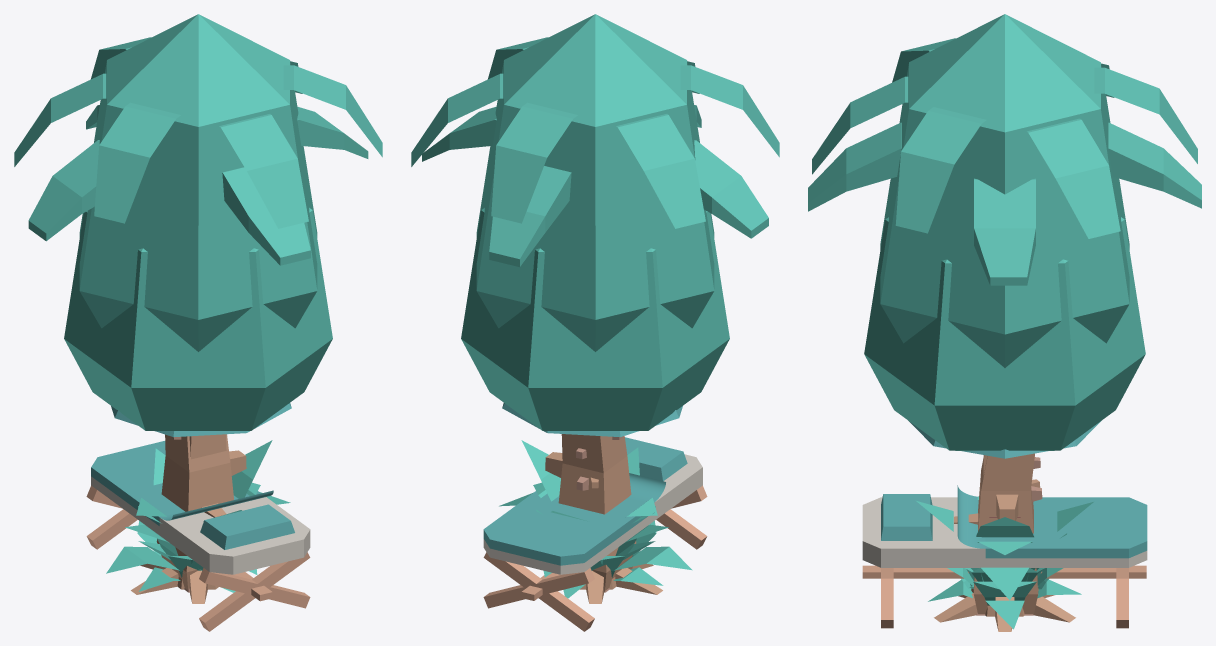
Rendered from kenney-nature-kit.glb.
The picture shows the model from 3 angles, left to right: view 1: azimuth 30°, elevation 25°; view 2: azimuth 150°, elevation 25°; view 3: azimuth 270°, elevation 25°; orthographic projection. The views are drawn at different scales.
Parts seen in each view (by area): view 1: tree-default, tree-oak, flower-bed, tree-palm, tree-palm-tall, plant-bush-detailed, plant-bush-large, tree-pine-default-a; view 2: tree-default, tree-oak, flower-bed, tree-palm, tree-palm-tall, plant-bush-detailed, tree-pine-default-a, plant-bush-large; view 3: tree-default, tree-oak, flower-bed, tree-palm, tree-palm-tall, plant-bush-detailed, plant-bush-large, tree-pine-default-a.
Part boxes in pixels (box(x1,y1,x2,y2)): tree-default: box(79, 14, 317, 517); tree-oak: box(64, 207, 332, 603); flower-bed: box(86, 441, 310, 631); tree-palm: box(14, 37, 382, 228); tree-palm-tall: box(28, 105, 368, 589); plant-bush-detailed: box(106, 440, 290, 592); plant-bush-large: box(137, 506, 203, 577); tree-pine-default-a: box(111, 403, 291, 592); tree-default: box(476, 14, 714, 477); tree-oak: box(461, 207, 729, 603); flower-bed: box(483, 437, 707, 631); tree-palm: box(411, 37, 779, 228); tree-palm-tall: box(422, 105, 768, 592); plant-bush-detailed: box(499, 440, 692, 598); tree-pine-default-a: box(502, 403, 682, 592); plant-bush-large: box(536, 506, 656, 577); tree-default: box(880, 14, 1129, 524); tree-oak: box(864, 217, 1145, 631); flower-bed: box(862, 485, 1147, 628); tree-palm: box(812, 38, 1197, 238); tree-palm-tall: box(808, 122, 1201, 614); plant-bush-detailed: box(916, 501, 1093, 629); plant-bush-large: box(961, 533, 1066, 605); tree-pine-default-a: box(908, 420, 1101, 615).
Bounding box in the file's own units: 5.17 × 8.54 × 5.17.
